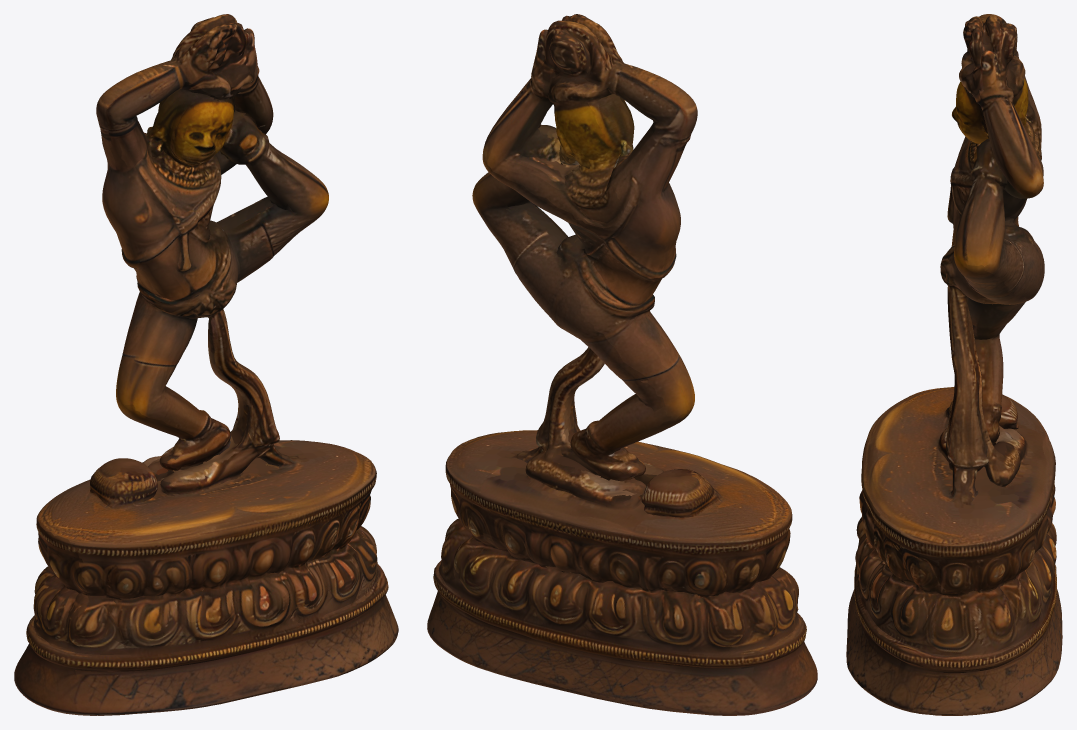
The picture shows the model from 3 angles, left to right: view 1: azimuth 30°, elevation 25°; view 2: azimuth 150°, elevation 25°; view 3: azimuth 270°, elevation 25°; orthographic projection. The views are drawn at different scales.
Visible parts, largest first — view 1: textured_mesh; view 2: textured_mesh; view 3: textured_mesh.
Boxes of the visible parts, <box> form: textured_mesh: <box>14,14,398,715</box>; textured_mesh: <box>427,14,817,715</box>; textured_mesh: <box>846,14,1062,715</box>.
Bounding box in the file's own units: 1.2 × 1.99 × 0.624.
1 material, 1 textured.
